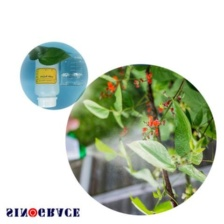insecticide: (33, 52, 61, 109)
